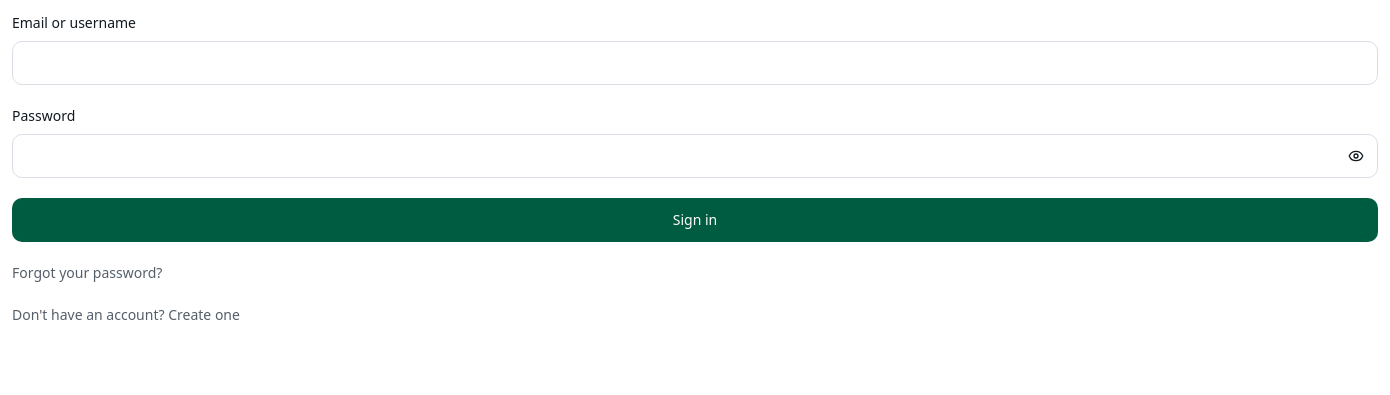
LoginForm › loginForm_emptyFields_reportBothAsRequired
Click the button "Sign in". click: [695, 220]
box: [12, 198, 1378, 242]
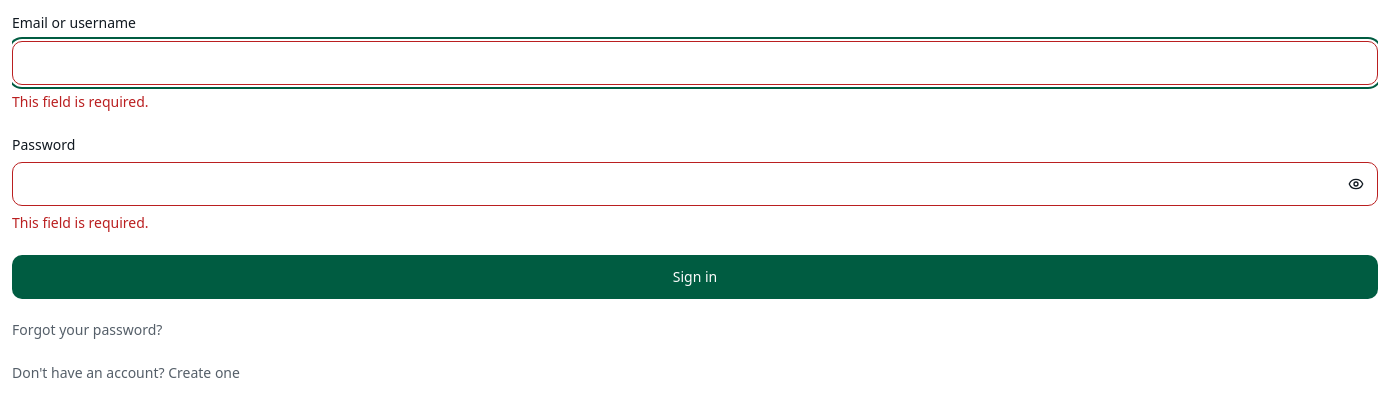
expect the text "This field is required." is shown 2 times: met, box [12, 92, 149, 111]; [12, 213, 149, 232]
